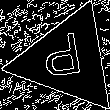P_S: (44, 32, 91, 88)
